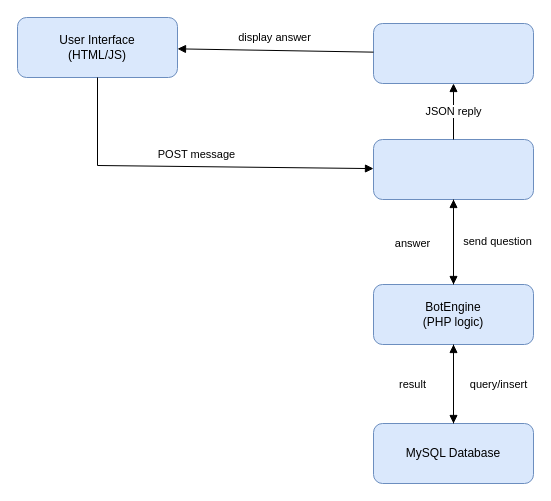
Some shapes in this 551 by 501 pixel diagram are drawn without their labels. The shapes that lost their labels are listed below. From the top down, each one's centre as x and y in pixels, then its label:
At (x=453, y=53): "Reply to User".
At (x=453, y=169): "API Endpoint (chatbot.php)".
